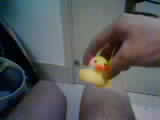duck: (71, 53, 107, 95)
